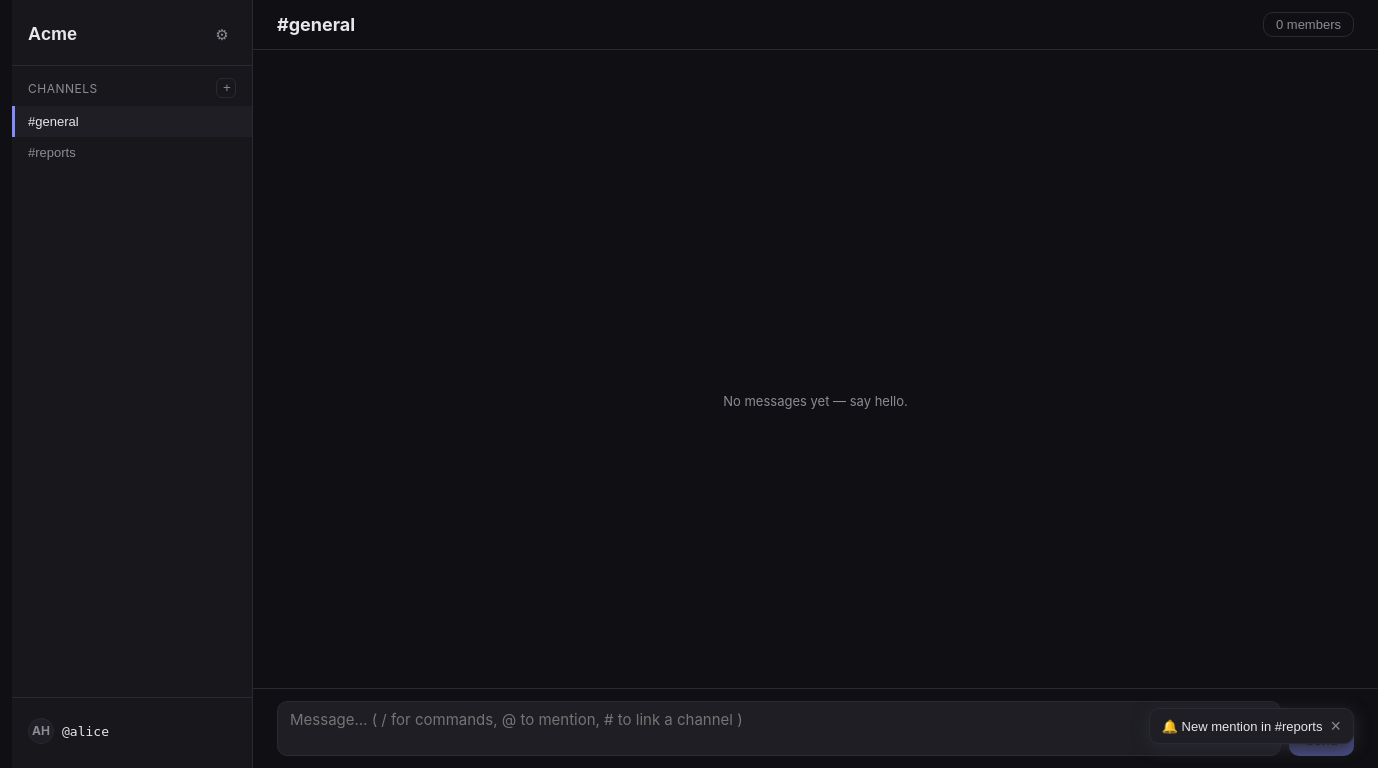
Scenario: AuthedShell's bell wiring (task-4 brief: toast routing test) › an other-room mention shows a toast; clicking it routes to that room
Check: the heading "#general" is shown, box [277, 14, 355, 35]
Click the button "🔔 New mention in #reports" at {"x": 1242, "y": 726}, box [1162, 718, 1322, 734]
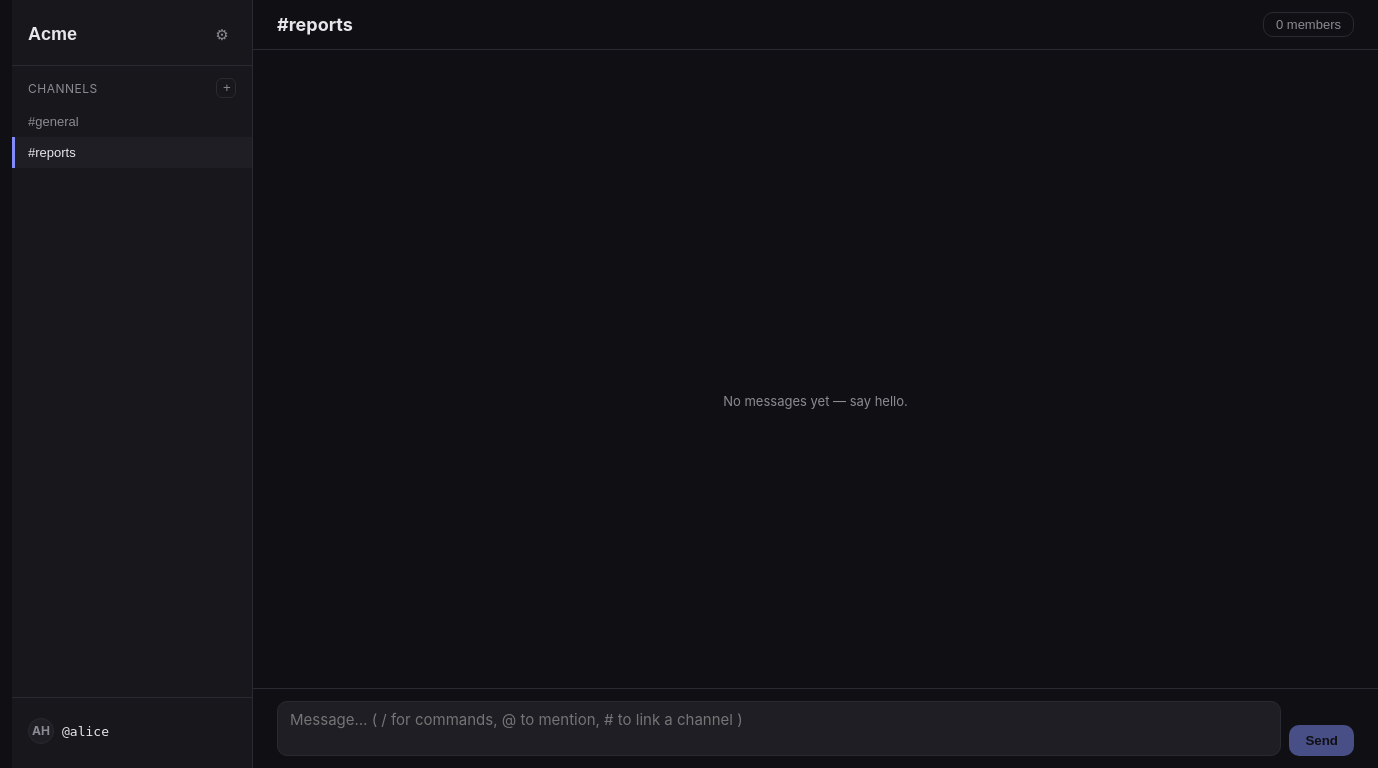
Check: the heading "#reports" is shown, box [277, 14, 353, 35]
Check: the button "🔔 New mention in #reports" is gone
